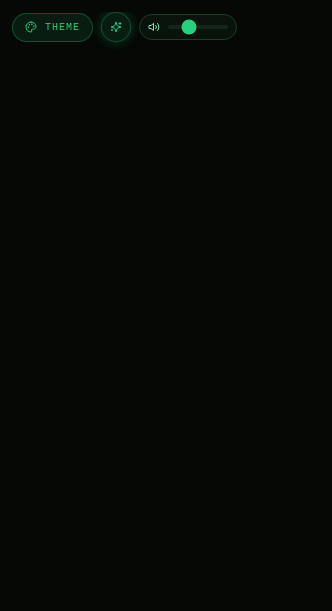
GlobalControls Theme Integration › verifies that custom themes are loaded and listed in the dropdown with a delete button
Open the dropdown
Click the button with test id "global-theme-picker".
click(52, 27)  # box [12,12,93,42]
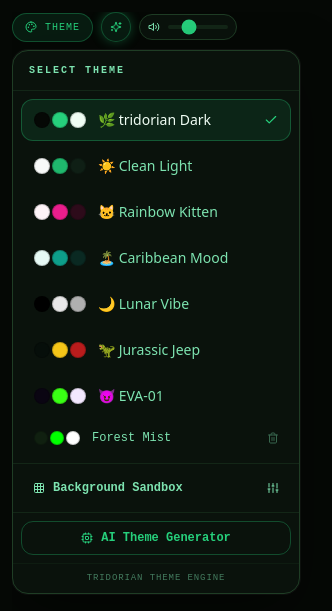
Expected: the text "Forest Mist" is shown, [92,430,171,444]
Expected: the button with test id "delete-theme-custom_1" is shown
Click delete button
Click the button with test id "delete-theme-custom_1".
click(273, 438)  # box [259,424,287,452]
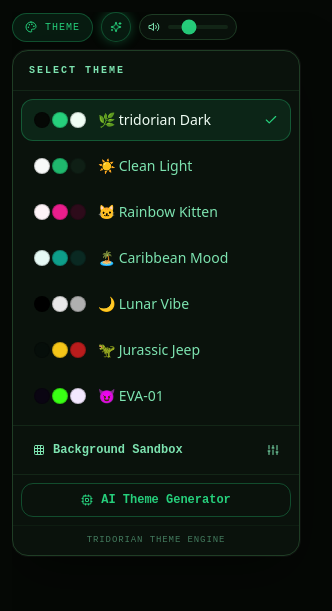
Expected: the button "Forest Mist" is gone
